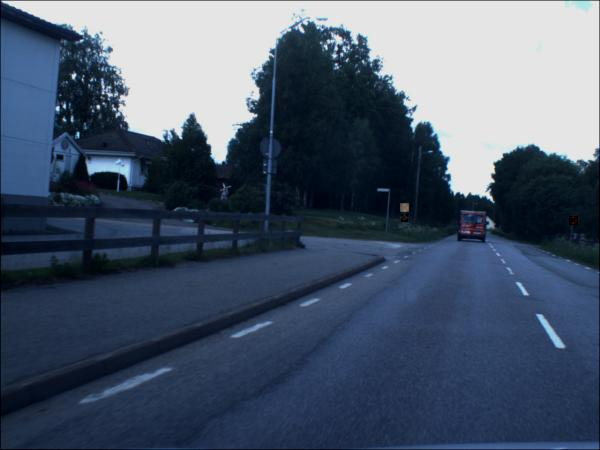70_SIGN: (400, 204, 410, 214), (569, 217, 579, 227)
PRIORITY_ROAD: (401, 215, 409, 224)
